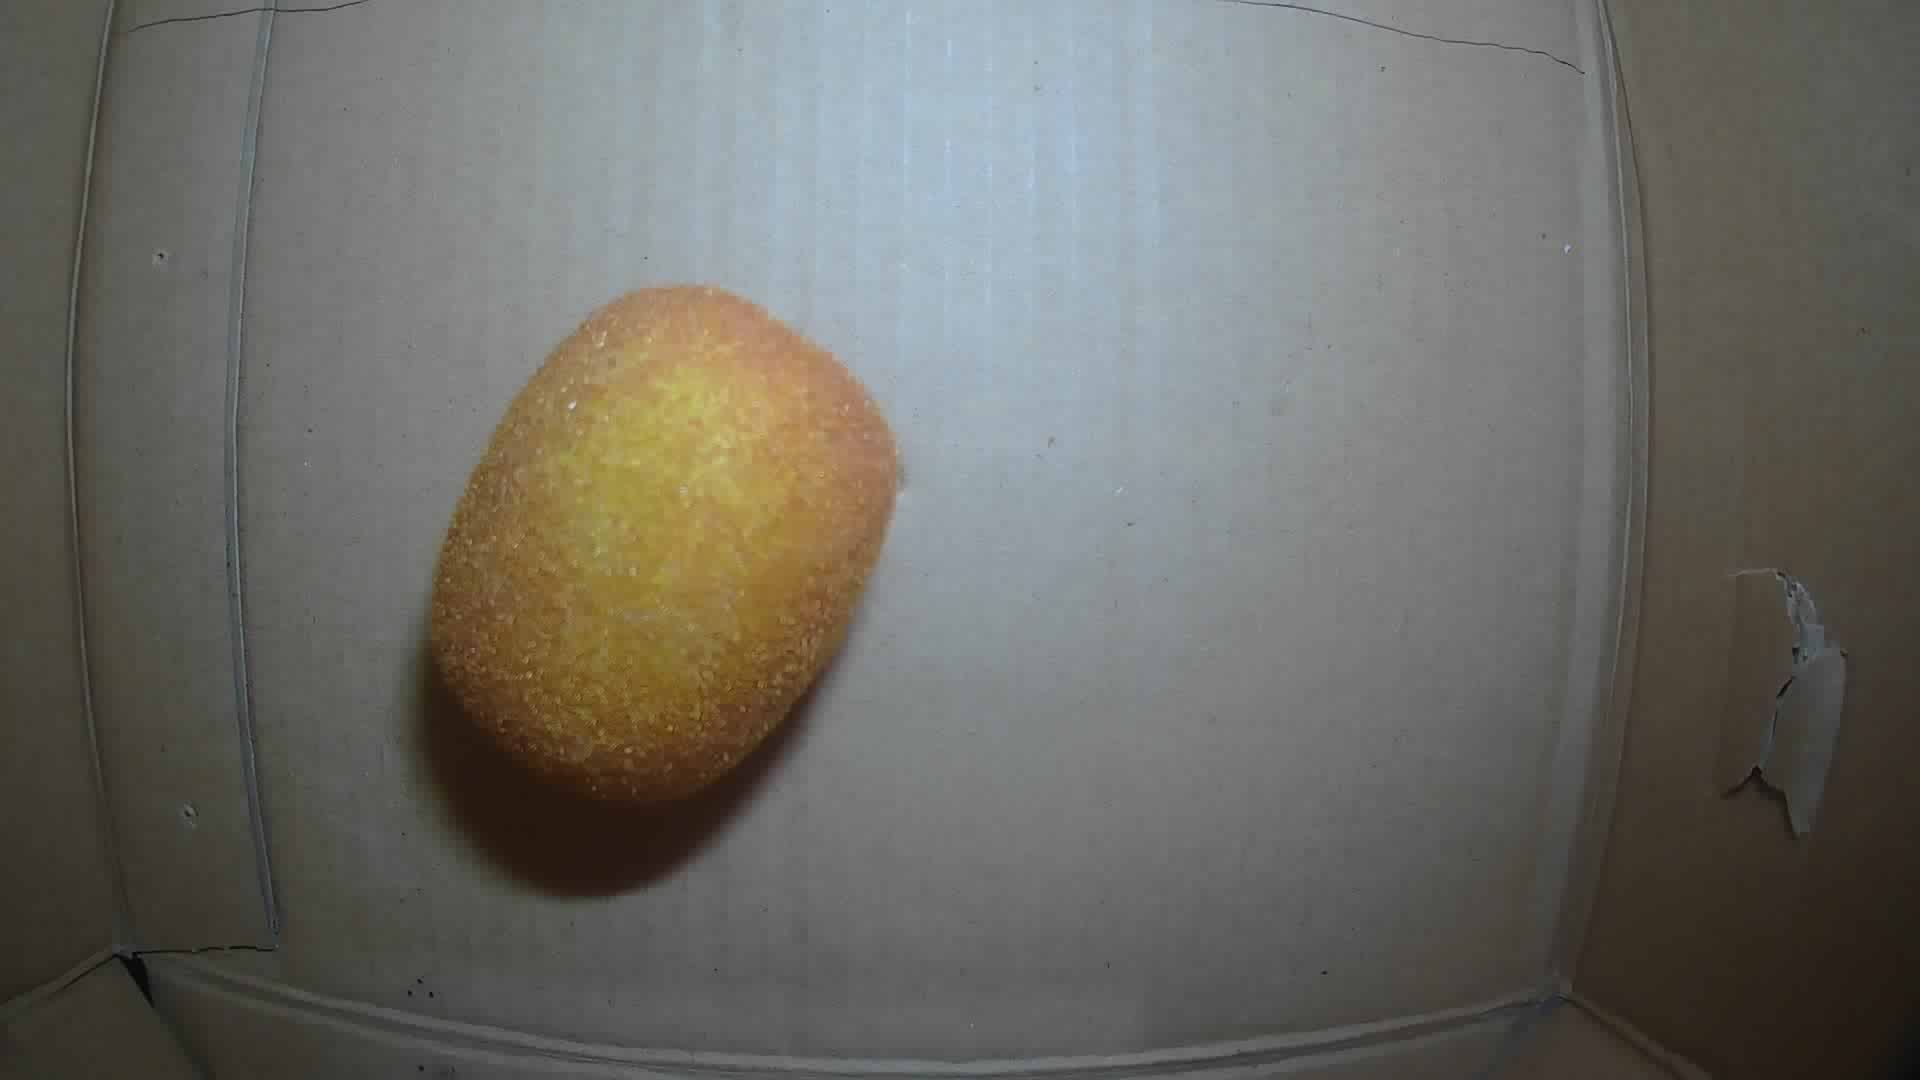kiwi: (429, 280, 905, 808)
